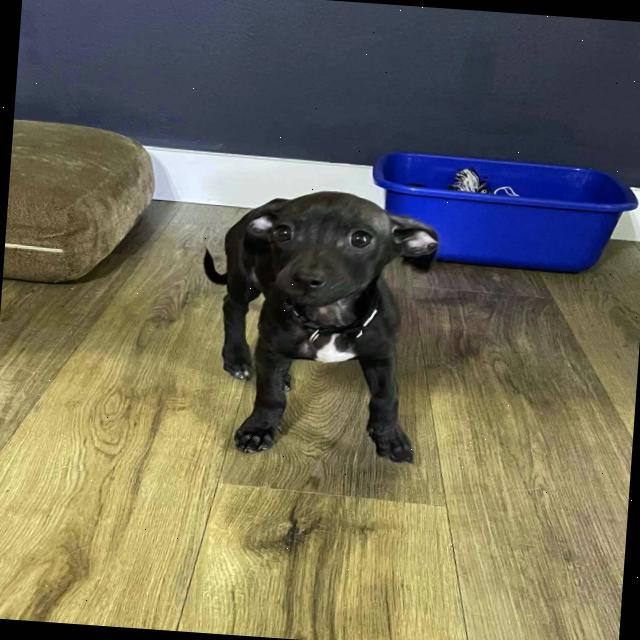chihuahua_dog: (199, 180, 459, 334)
